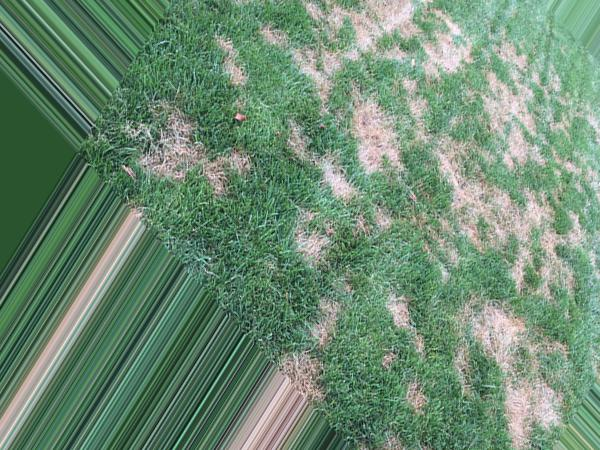patch: (365, 16, 440, 74), (526, 226, 575, 297), (359, 84, 395, 166), (456, 178, 504, 236), (488, 100, 524, 132), (517, 408, 538, 432)
